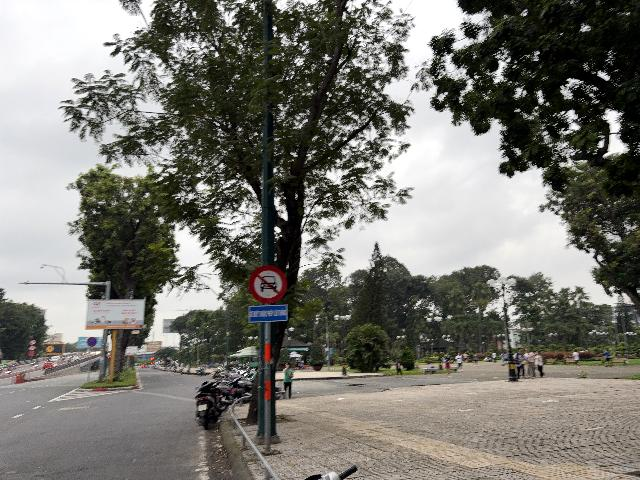cam-o-to: (249, 265, 286, 303)
